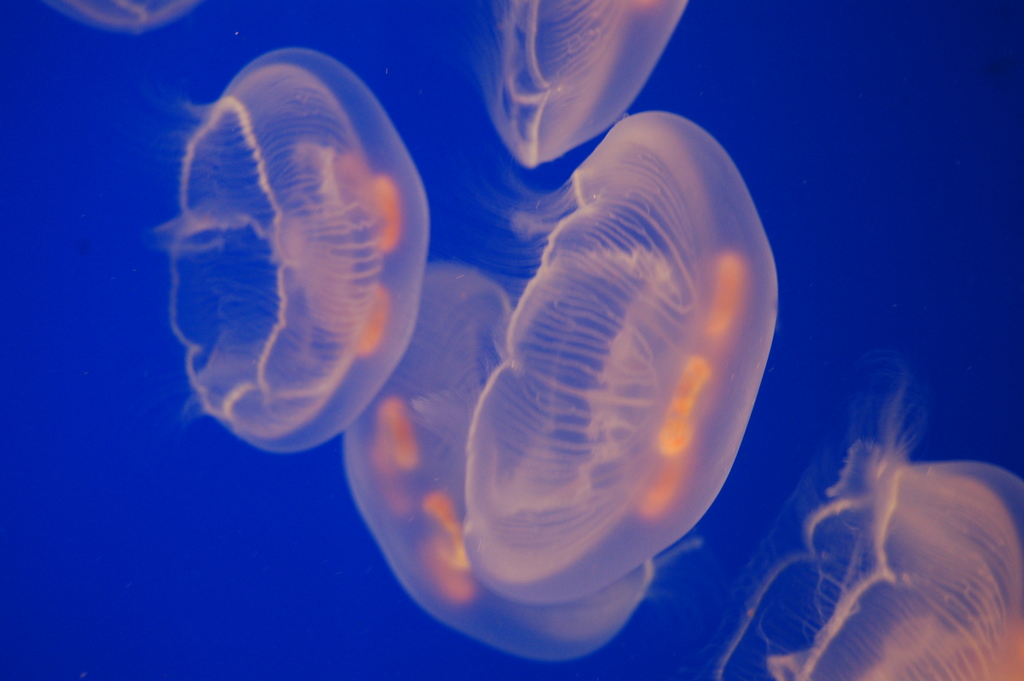Jellyfish: (457, 110, 781, 601), (344, 262, 702, 665), (138, 43, 429, 449), (713, 355, 1023, 680), (486, 0, 683, 174)
